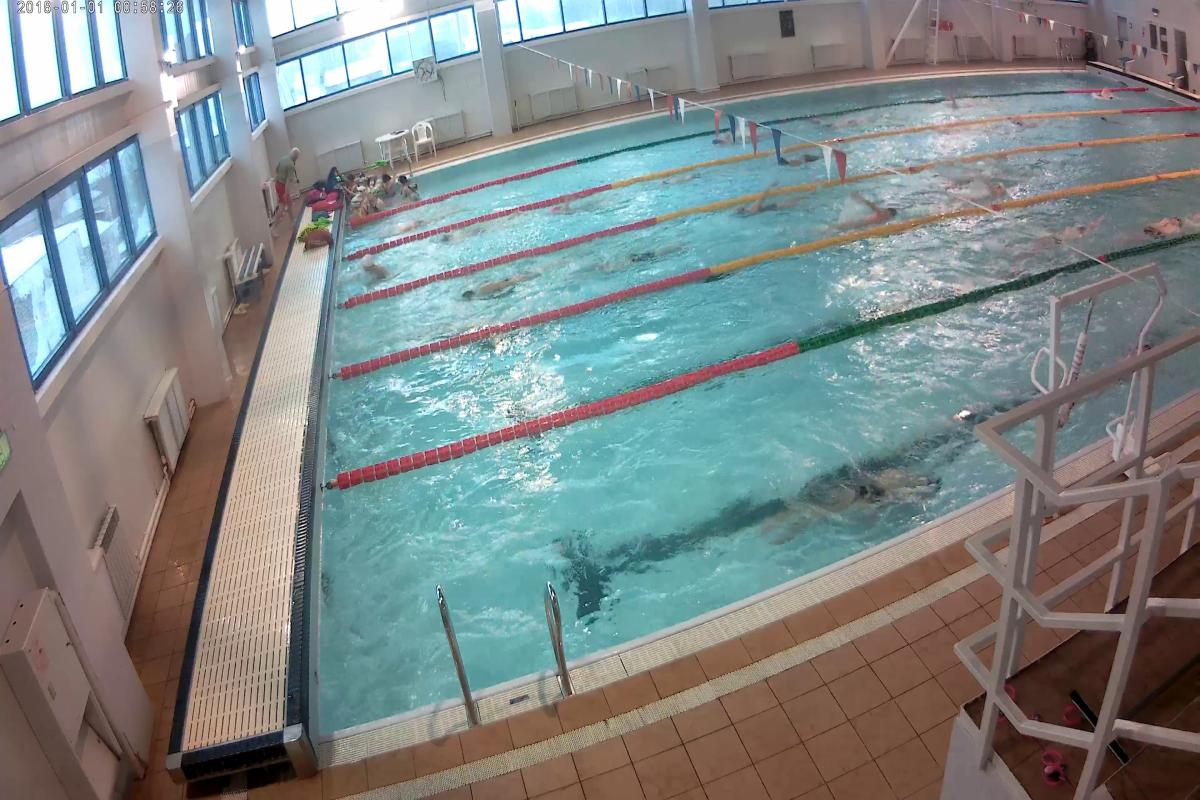swimmer: (802, 448, 917, 512), (832, 197, 908, 228), (461, 272, 550, 298), (730, 193, 812, 217), (1134, 212, 1196, 242)
